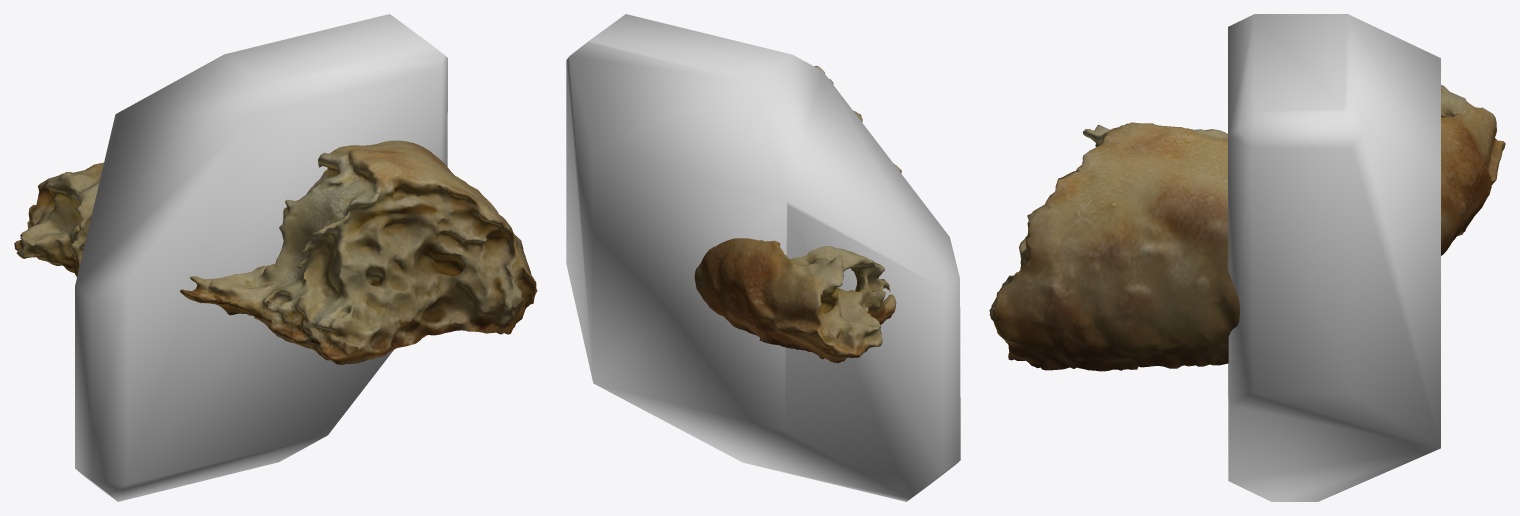
Rendered from SM_Bread_A.fbx.
3 renders of one model, left to right at view 1: azimuth 30°, elevation 25°; view 2: azimuth 150°, elevation 25°; view 3: azimuth 270°, elevation 25°, orthographic. The views are drawn at different scales.
Visible parts, largest first — view 1: SM_Bread_A_ConvexHulls, SM_Bread_A; view 2: SM_Bread_A_ConvexHulls, SM_Bread_A; view 3: SM_Bread_A_ConvexHulls, SM_Bread_A.
Boxes of the visible parts, x1,y1,x2,y2 form: SM_Bread_A_ConvexHulls: [75, 14, 447, 501]; SM_Bread_A: [14, 140, 537, 364]; SM_Bread_A_ConvexHulls: [566, 14, 960, 501]; SM_Bread_A: [694, 66, 901, 363]; SM_Bread_A_ConvexHulls: [1228, 14, 1440, 501]; SM_Bread_A: [989, 85, 1505, 371].
Size of the model in its own units: 0.1194 by 0.1266 by 0.1247.
